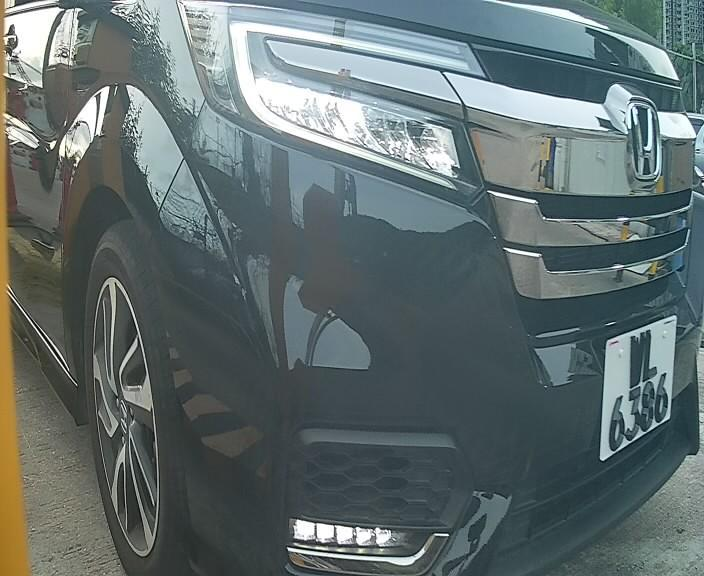Car: (79, 13, 704, 565)
License Plate: (585, 299, 691, 473)
